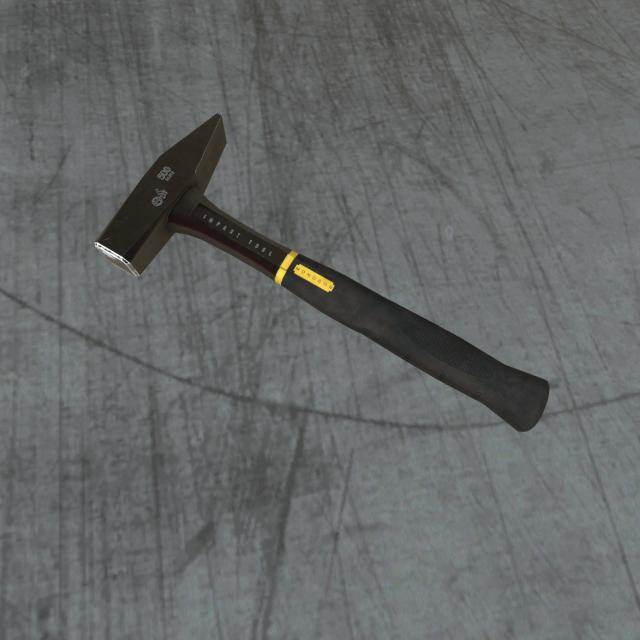hammer: (87, 108, 556, 442)
